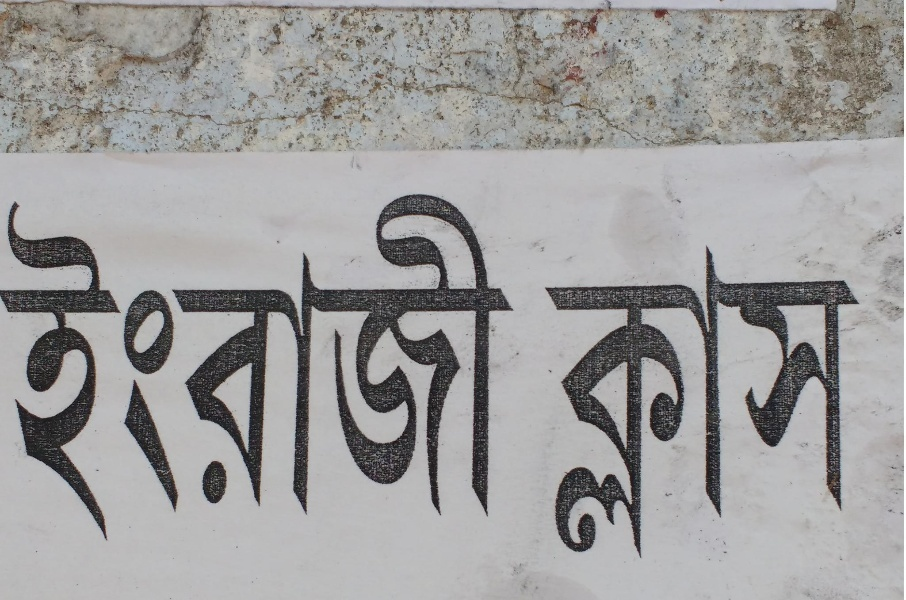text: (17, 183, 32, 551), (33, 183, 48, 551), (49, 183, 64, 551), (65, 183, 80, 551), (81, 183, 96, 551), (97, 183, 112, 551), (113, 183, 128, 551), (129, 183, 144, 551), (145, 183, 160, 551), (161, 183, 176, 551), (177, 183, 192, 551), (193, 183, 208, 551), (209, 183, 224, 551), (225, 183, 240, 551), (241, 183, 256, 551), (257, 183, 272, 551), (273, 183, 288, 551), (289, 183, 304, 551), (305, 183, 320, 551), (321, 183, 336, 551), (337, 183, 352, 551), (353, 183, 368, 551), (369, 183, 384, 551), (385, 183, 400, 551), (401, 183, 416, 551), (417, 183, 432, 551), (433, 183, 448, 551), (449, 183, 464, 551), (465, 183, 480, 551), (481, 183, 496, 551), (497, 183, 512, 551), (2, 183, 16, 551), (545, 237, 560, 564), (561, 237, 576, 564), (577, 237, 592, 564), (593, 237, 608, 564), (609, 237, 624, 564), (625, 237, 640, 564), (641, 237, 656, 564), (657, 237, 672, 564), (673, 237, 688, 564), (689, 237, 704, 564), (705, 237, 720, 564), (721, 237, 736, 564), (737, 237, 752, 564), (753, 237, 768, 564), (769, 237, 784, 564), (785, 237, 800, 564), (801, 237, 816, 564), (817, 237, 832, 564), (833, 237, 848, 564), (849, 237, 864, 564), (513, 183, 519, 551), (865, 237, 869, 564)
